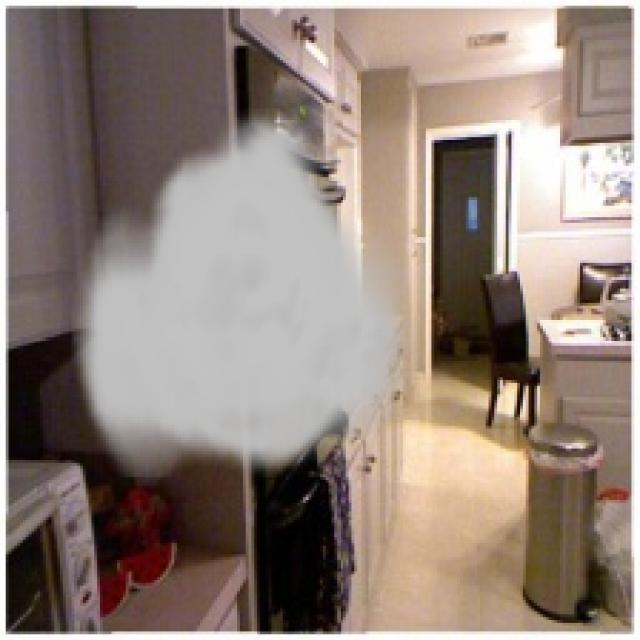smoke: (72, 109, 417, 477)
